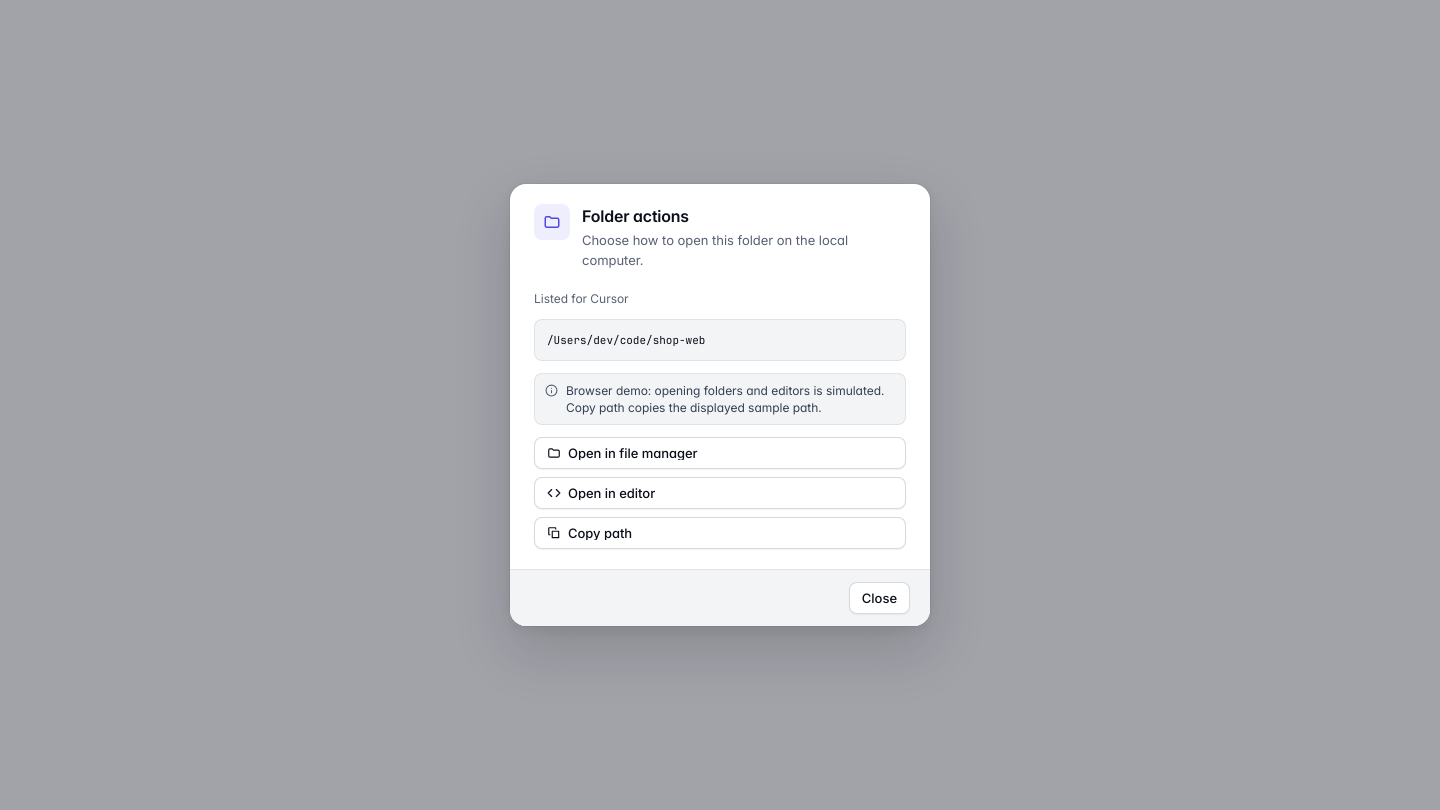
folder chooser › explains browser simulation and handles denied clipboard access locally
This screenshot has width=1440, height=810.
Expected: the text "opening folders and editors is simulated" is shown, [566, 383, 884, 415]
Expected: the button "Open in file manager" is shown, [534, 437, 906, 469]
Click the button "Copy path".
click(600, 532)  # box [534, 517, 906, 549]
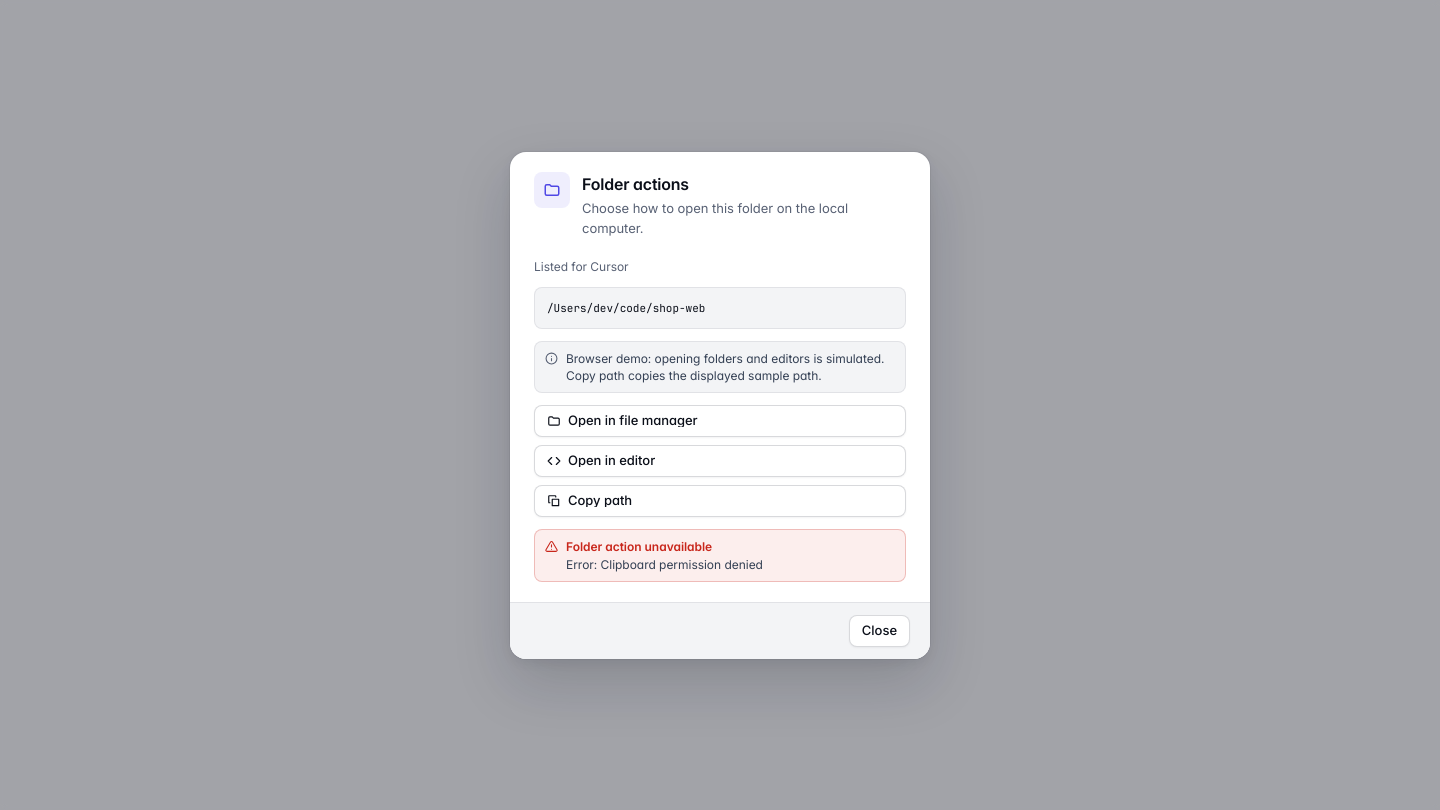
Expected: the button "Copy path" is enabled, [534, 484, 906, 516]
Expected: the message shows "Clipboard permission denied", [566, 556, 763, 572]
